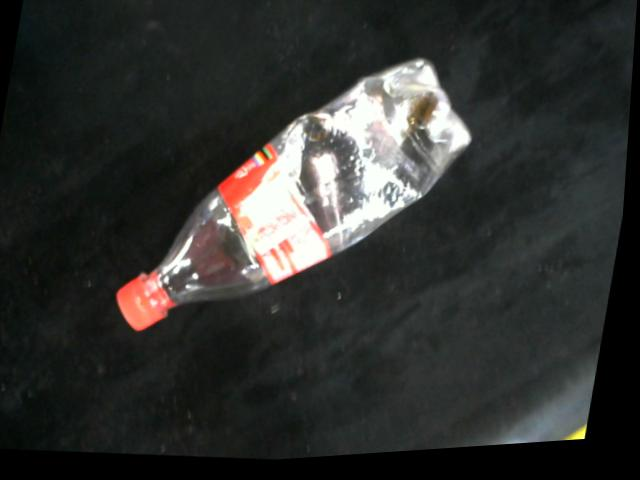bottle: (119, 63, 477, 335)
